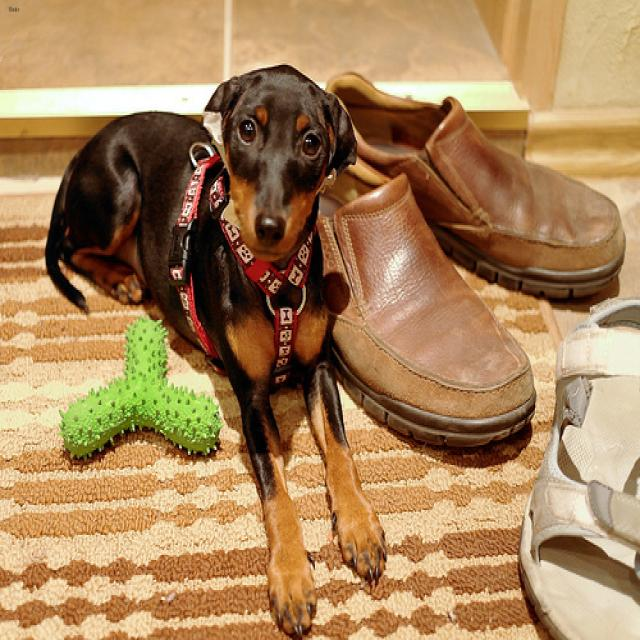dog-miniature_pinscher: (33, 53, 398, 637)
